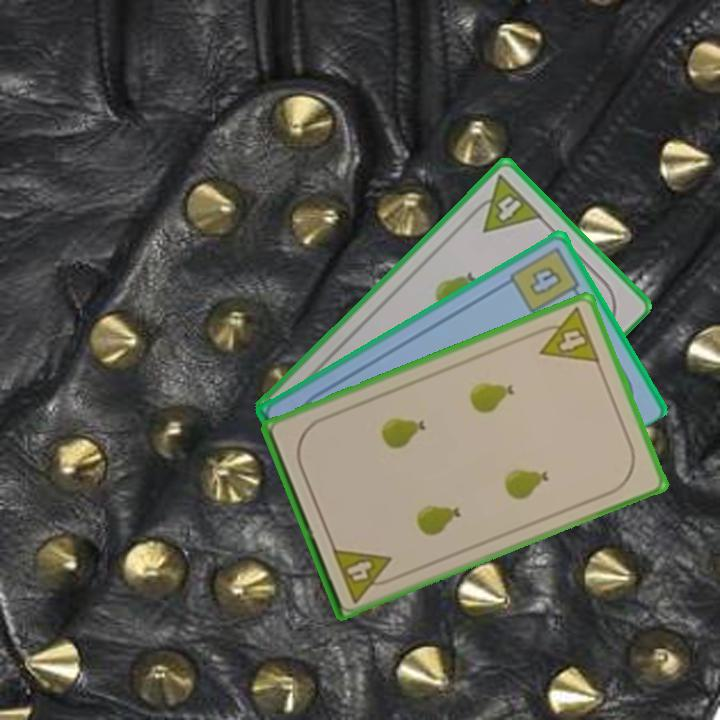4b: (506, 243, 585, 316)
4p: (464, 171, 545, 235), (529, 304, 603, 366), (328, 543, 400, 606)
